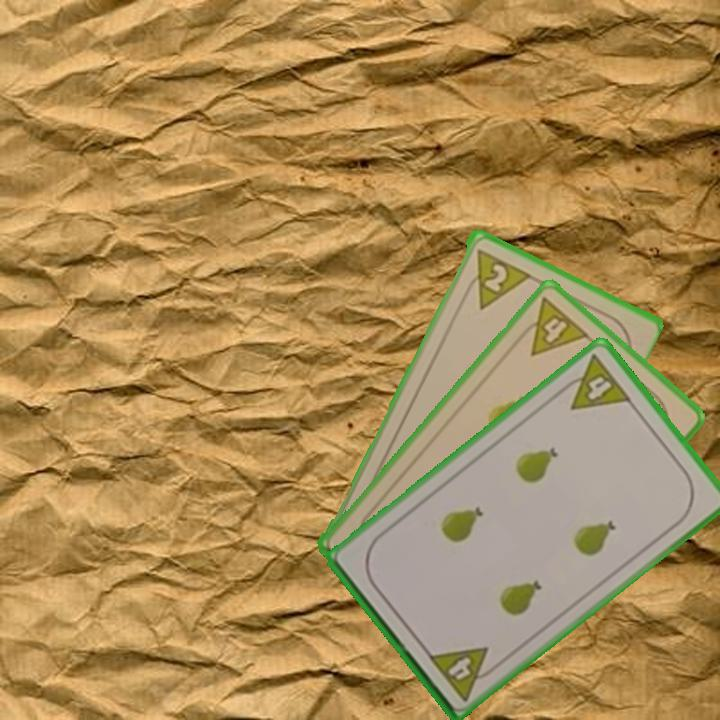2p: (460, 244, 532, 312)
4p: (511, 293, 592, 359), (554, 350, 634, 413), (424, 642, 502, 704)
